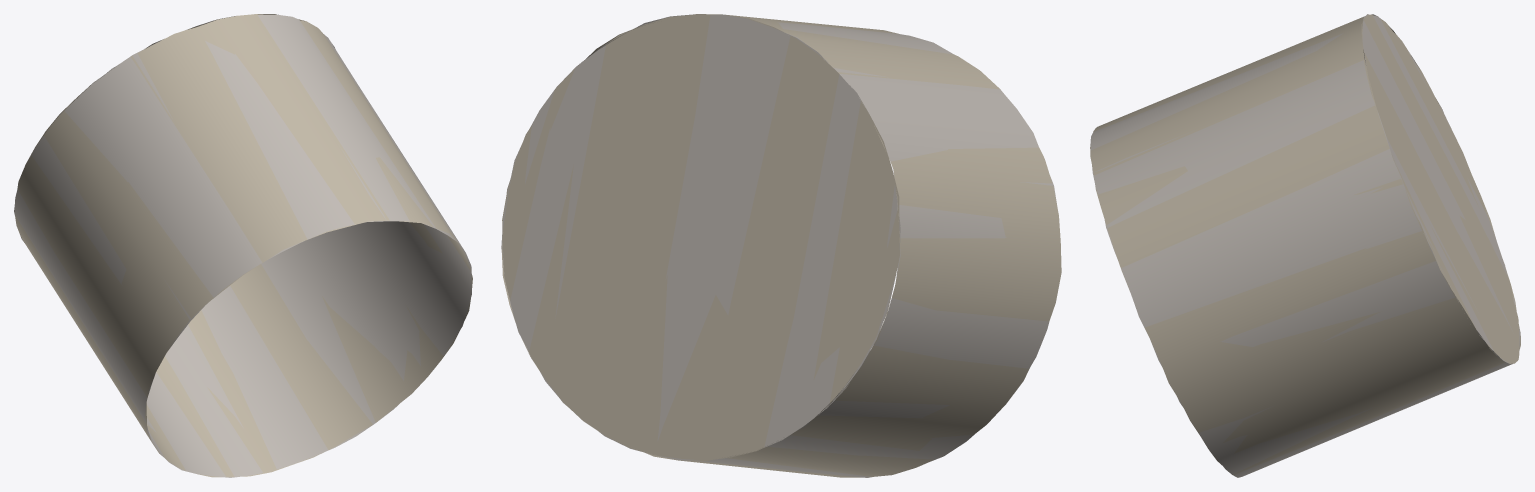
Rendered from original-16.obj.
The picture shows the model from 3 angles, left to right: view 1: azimuth 30°, elevation 25°; view 2: azimuth 150°, elevation 25°; view 3: azimuth 270°, elevation 25°; orthographic projection. The views are drawn at different scales.
Parts seen in each view (by area): view 1: #ID331; view 2: #ID331; view 3: #ID331.
Boxes of the visible parts, x1,y1,x2,y2 form: #ID331: (14, 14, 472, 477); #ID331: (501, 14, 1061, 477); #ID331: (1090, 14, 1520, 477).
Size of the model in its own units: 0.035 by 0.0432 by 0.0396.
2 materials, 1 textured.
